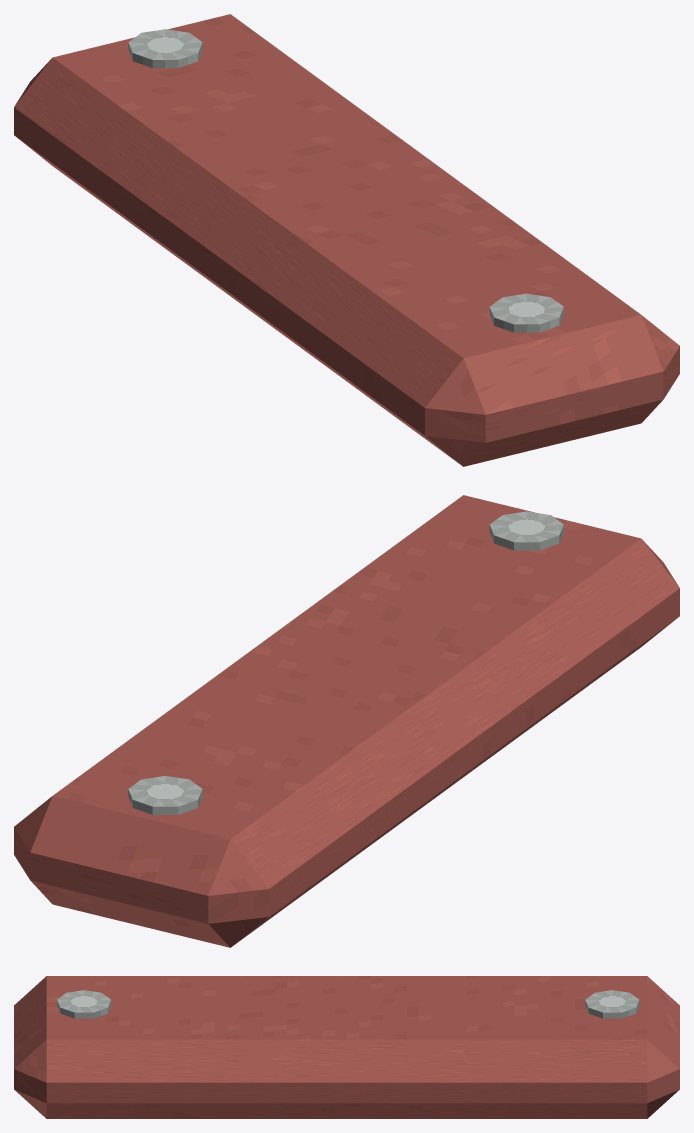
The model's file is knife_swissarmy.glb.
3 renders of one model, top to bottom at view 1: azimuth 30°, elevation 25°; view 2: azimuth 150°, elevation 25°; view 3: azimuth 270°, elevation 25°, orthographic. The views are drawn at different scales.
Parts seen in each view (by area): view 1: block_closed folding tool case, block_pivot (×2); view 2: block_closed folding tool case, block_pivot (×2); view 3: block_closed folding tool case, block_pivot (×2).
Boxes of the visible parts, left/top/right/bottom form: block_closed folding tool case: left=14, top=14, right=679, bottom=466; block_pivot (×2): left=128, top=29, right=563, bottom=332; block_closed folding tool case: left=14, top=495, right=679, bottom=947; block_pivot (×2): left=128, top=511, right=563, bottom=814; block_closed folding tool case: left=14, top=976, right=679, bottom=1118; block_pivot (×2): left=57, top=990, right=639, bottom=1018.
Bounding box in the file's own units: 0.0291 × 0.0127 × 0.09.
1 material, 1 textured.
